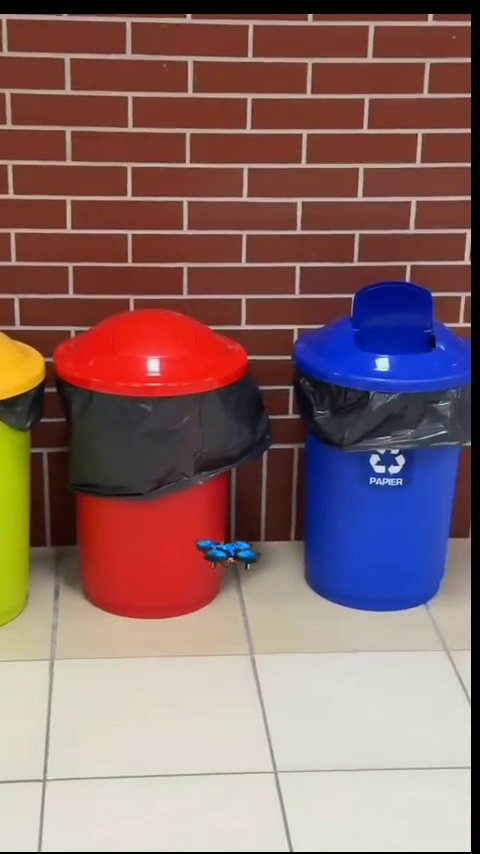drone: (192, 538, 257, 571)
